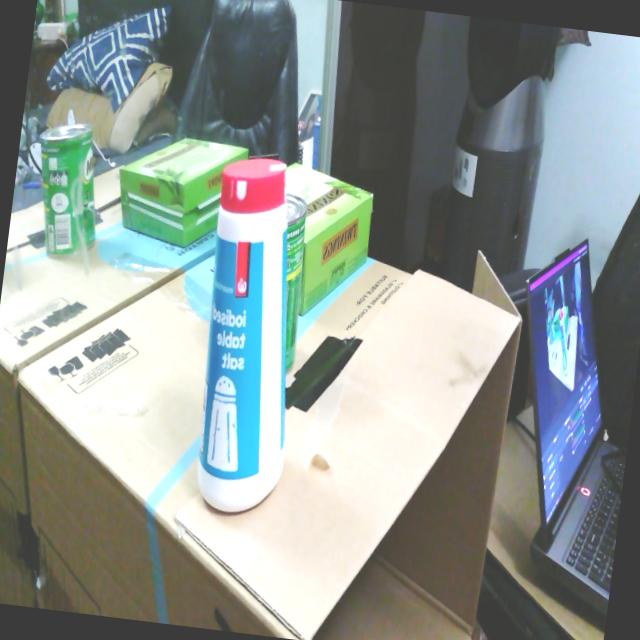nestle_milo_tin: (285, 193, 307, 376)
twinings_greentea_box: (286, 163, 372, 316)
woolworths_salt_bottle: (196, 159, 287, 512)
